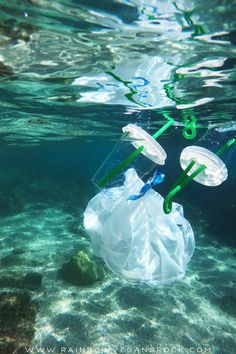papel: (80, 167, 200, 285)
